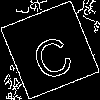C: (25, 25, 78, 83)
